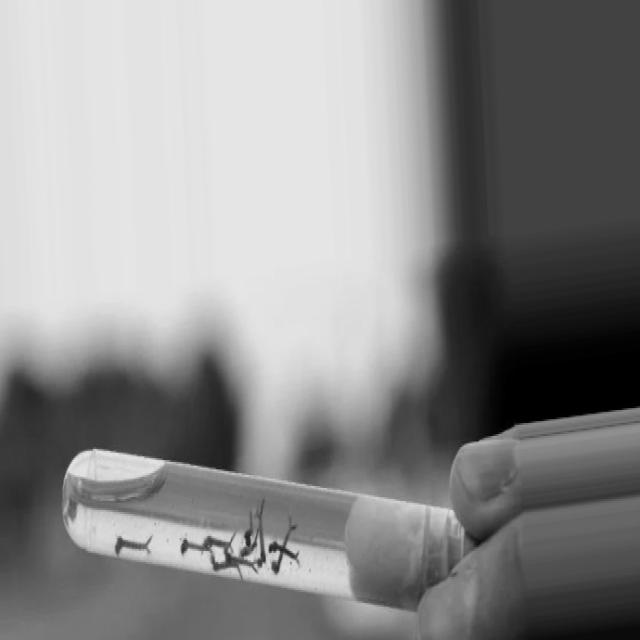larvas: (271, 517, 297, 580), (269, 534, 302, 565), (115, 537, 152, 552), (258, 503, 267, 564), (225, 553, 256, 568), (204, 536, 234, 549), (182, 541, 208, 555), (244, 512, 253, 546), (210, 560, 228, 573), (241, 546, 254, 555)
